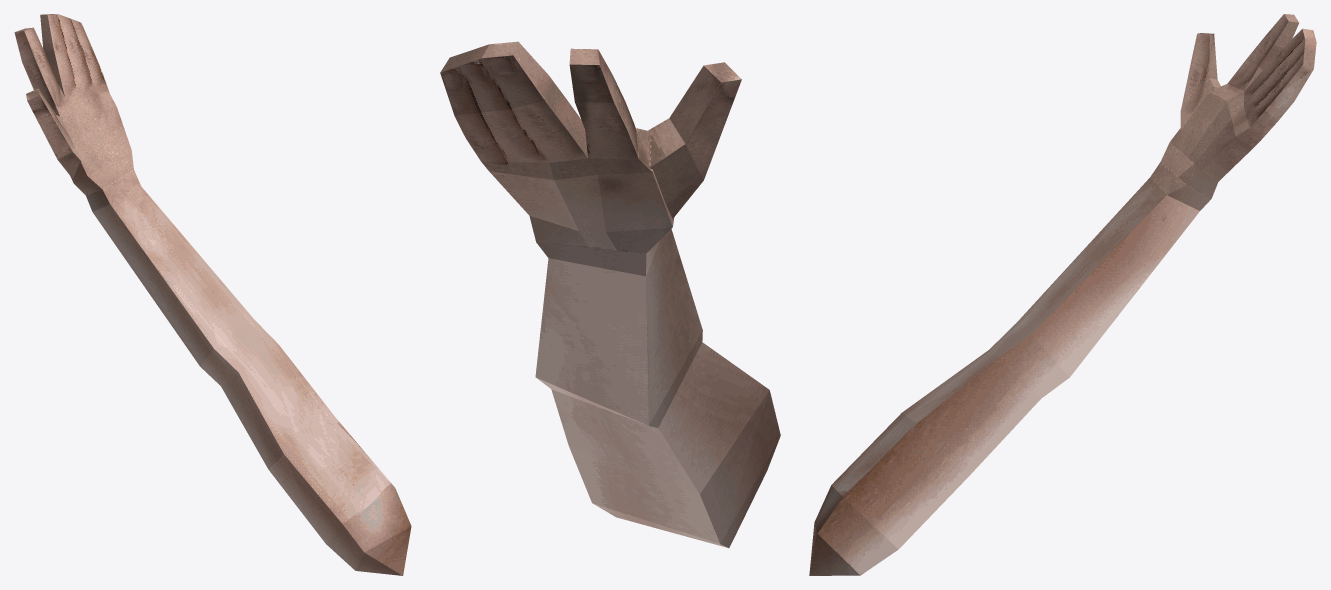
File: mao_L.glb
3 renders of one model, left to right at view 1: azimuth 30°, elevation 25°; view 2: azimuth 150°, elevation 25°; view 3: azimuth 270°, elevation 25°, orthographic. The views are drawn at different scales.
Visible parts, largest first — view 1: mao_L; view 2: mao_L; view 3: mao_L.
Boxes of the visible parts, left/top/right/bottom form: mao_L: left=14, top=14, right=411, bottom=575; mao_L: left=440, top=41, right=780, bottom=548; mao_L: left=809, top=14, right=1316, bottom=575.
Size of the model in its own units: 0.3699 by 0.7005 by 0.677.
1 material, 1 textured.
